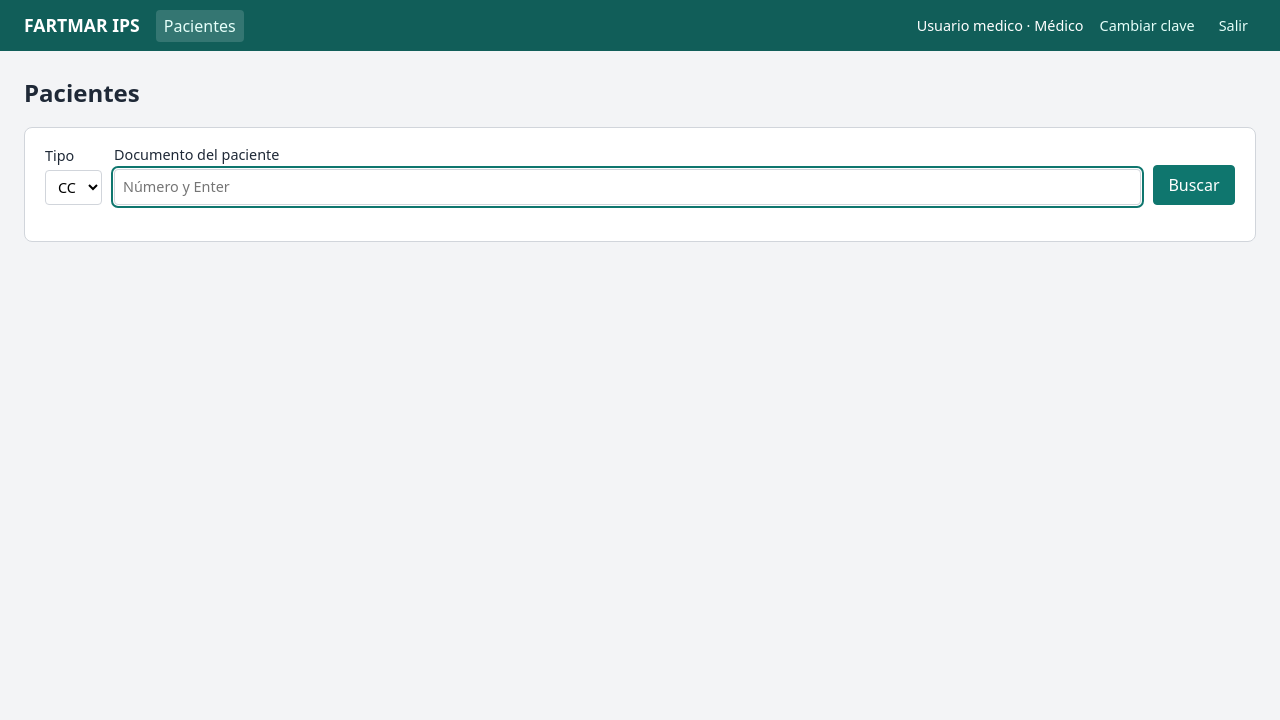
Test: Prescripción del médico › un error de validación del servidor se muestra en español
Type "9900000001" into the field labelled "Documento del paciente".
click(628, 187); type("9900000001")  # box [114,169,1141,205]
Then press Enter
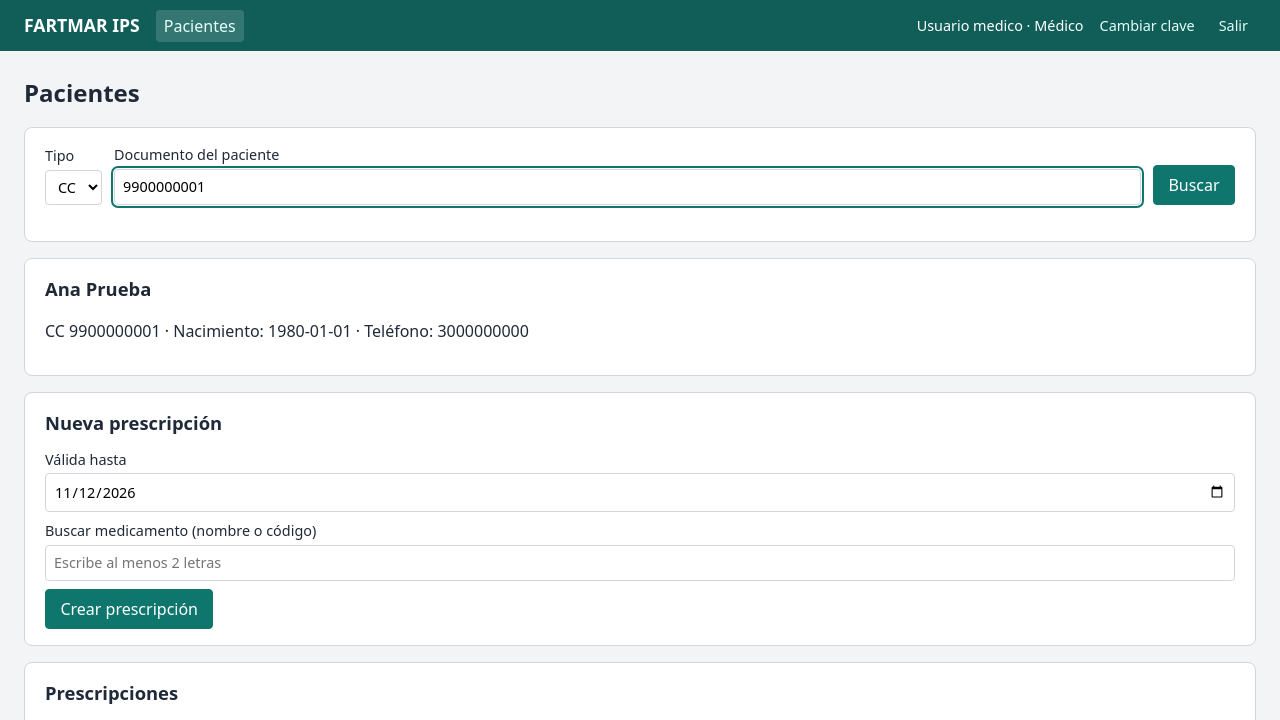
Type "acet" into the field labelled "Buscar medicamento (nombre o código)".
click(640, 563); type("acet")  # box [45,544,1235,581]
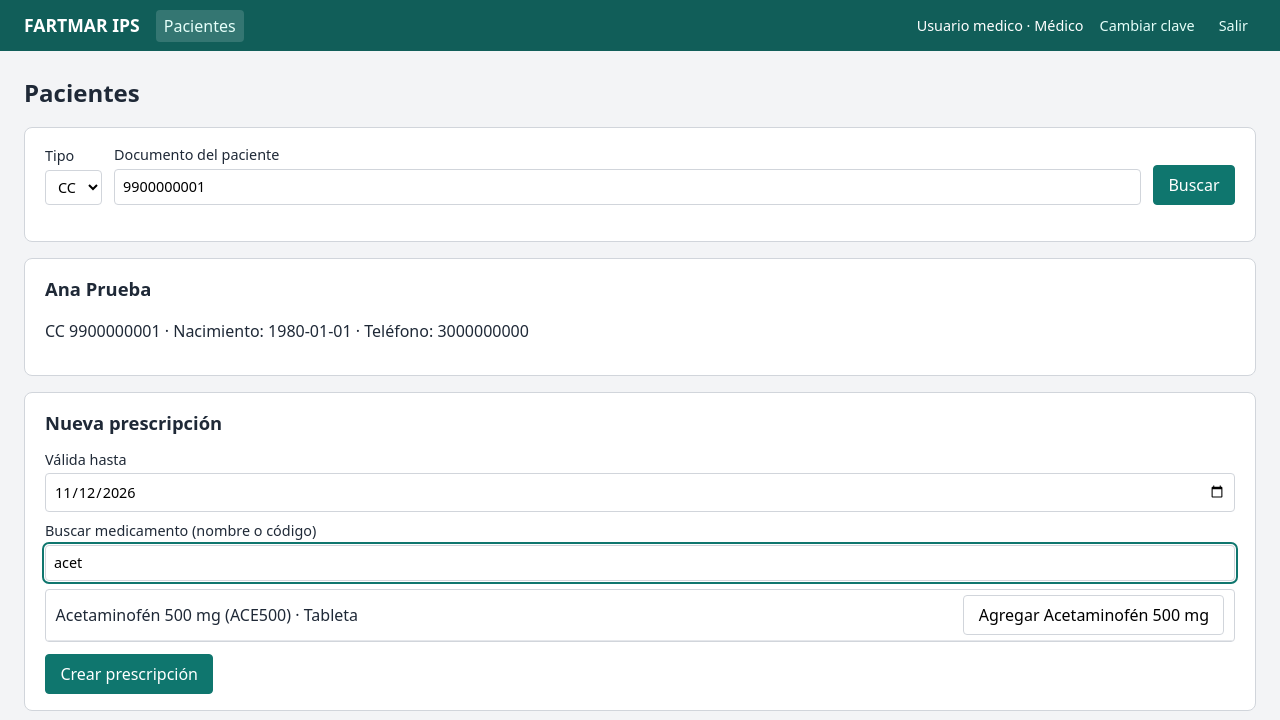
Click the button "Agregar Acetaminofén 500 mg".
click(1094, 615)  # box [963,595,1224,635]
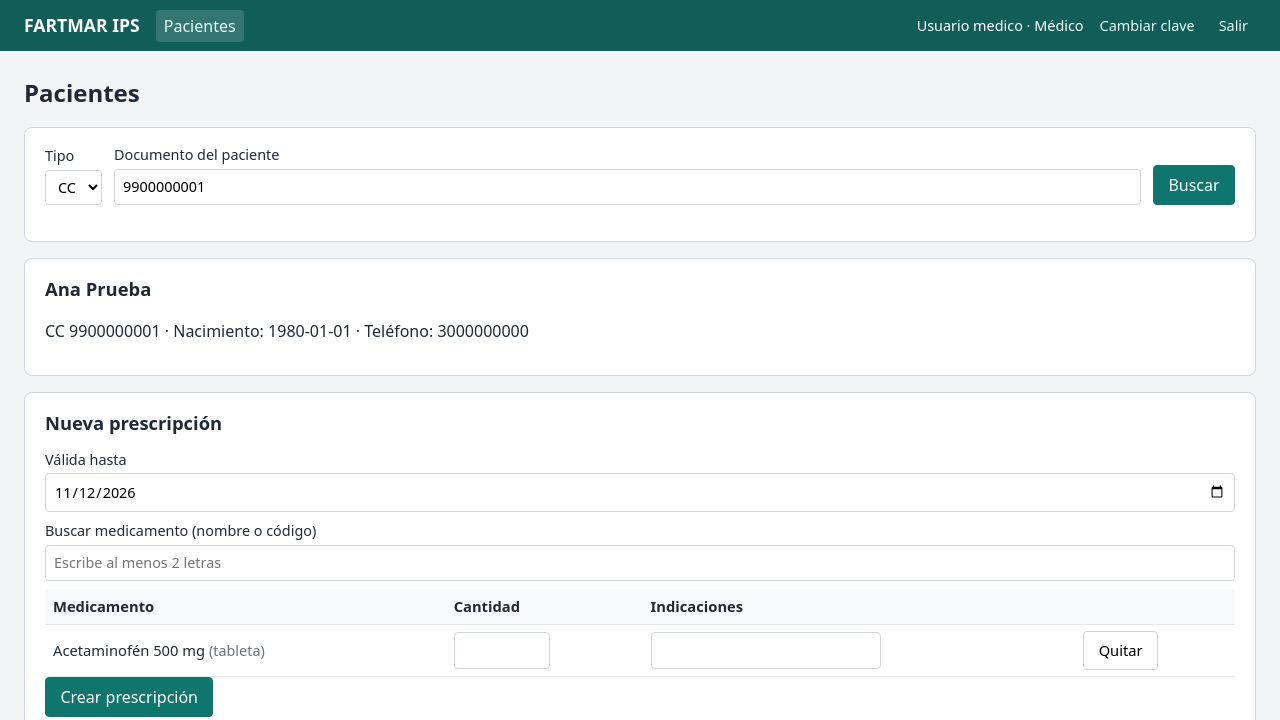
Type "5" into the number field named "Cantidad de Acetaminofén 500 mg".
click(502, 650); type("5")  # box [454,632,550,669]
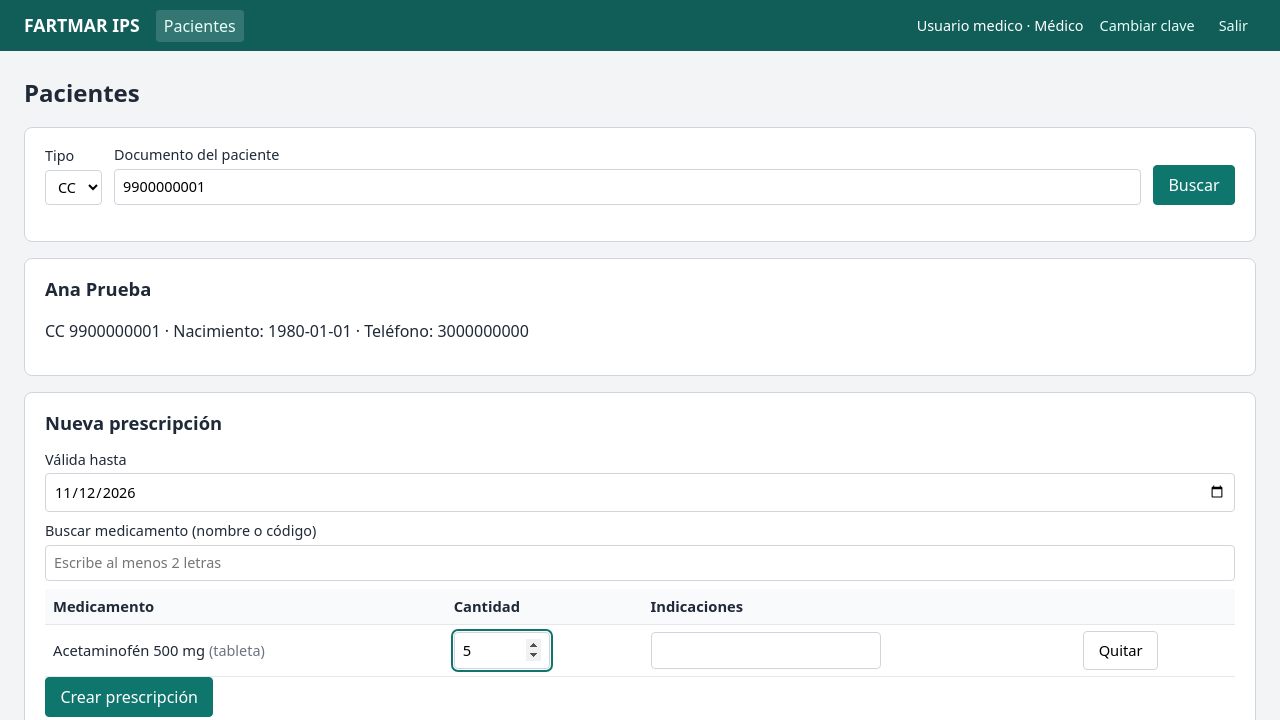
Click the button "Crear prescripción".
click(129, 697)  # box [45,677,213,717]
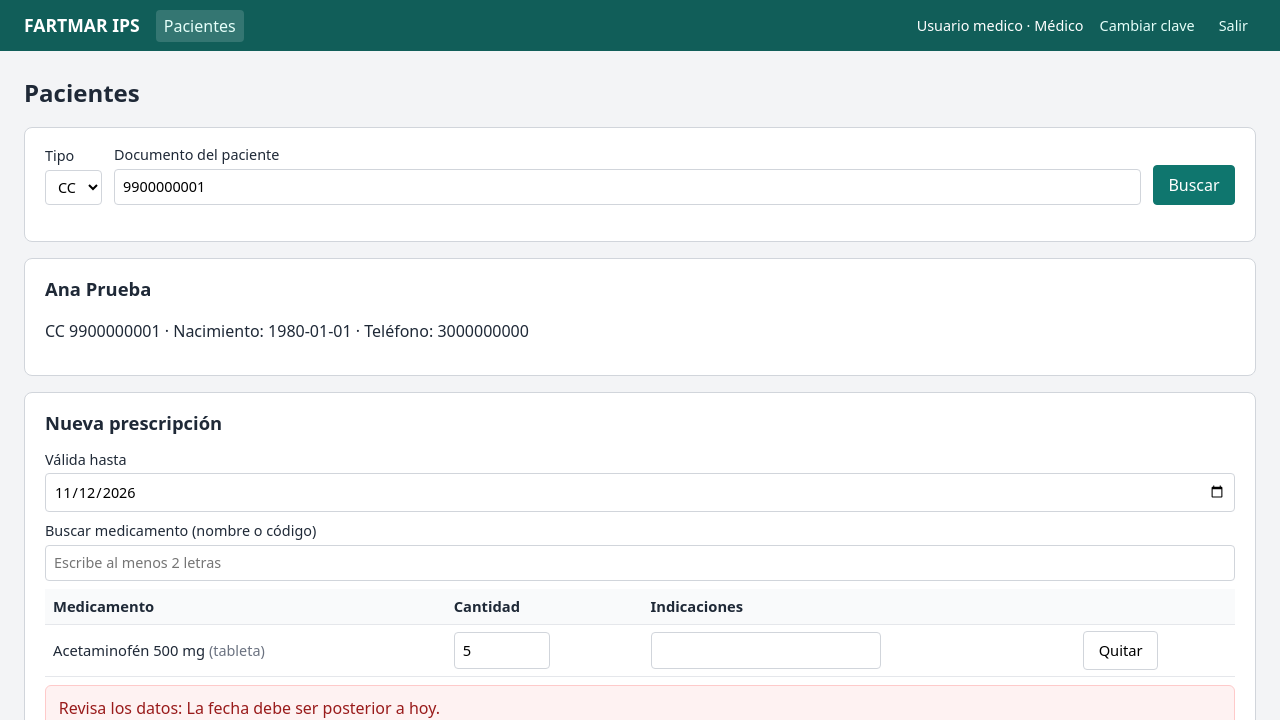
Now the text "Revisa los datos: La fecha debe ser posterior a hoy." is shown, box [59,697,440,719]
